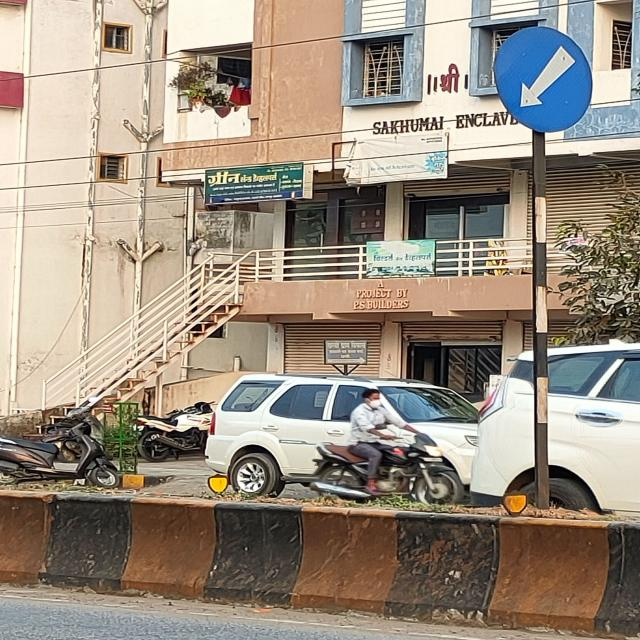COMPULSARY_KEEP_LEFT: (488, 21, 602, 144)
